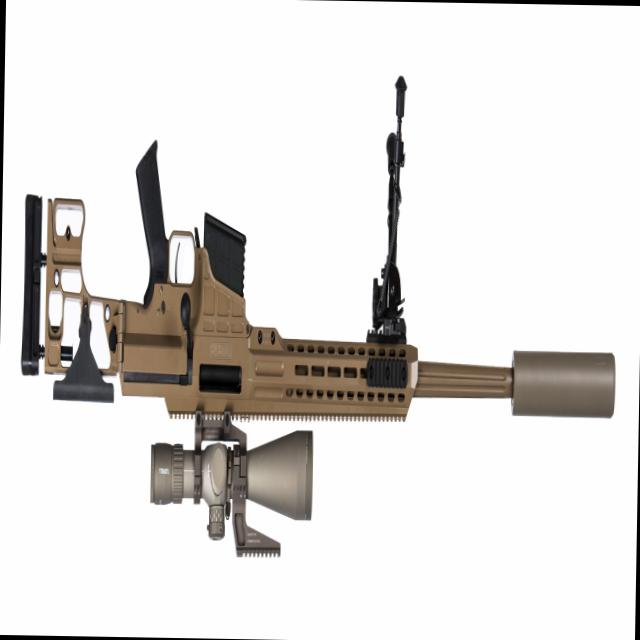Weapon: (14, 66, 624, 572)
